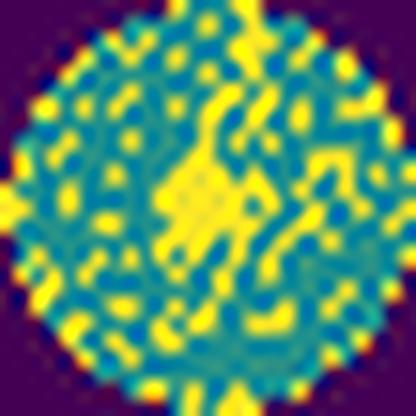Center: (150, 82, 288, 304)
